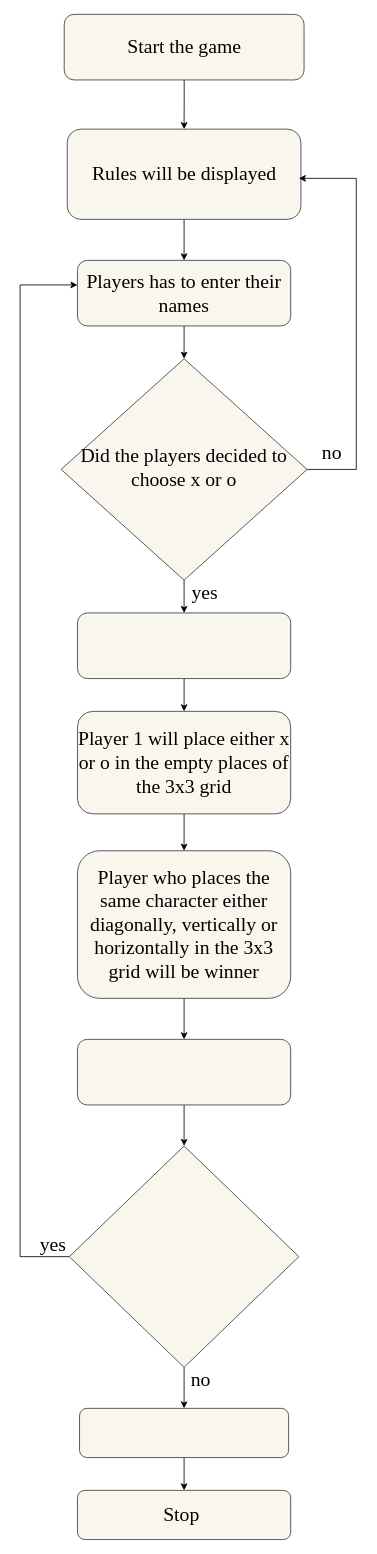
Some shapes in this 377 by 1554 pixel diagram are drawn without their labels. The shapes that lost their labels are listed below. From the top down, each one's box as (x1, y1, x2, y2) in pixels, then its label:
(77, 612, 291, 679): Playboard has to be displayed
(77, 1039, 291, 1105): Winner will displayed
(68, 1145, 299, 1367): Decide whether to play next game or display leaderboard
(79, 1408, 289, 1458): Display Leaderboard
